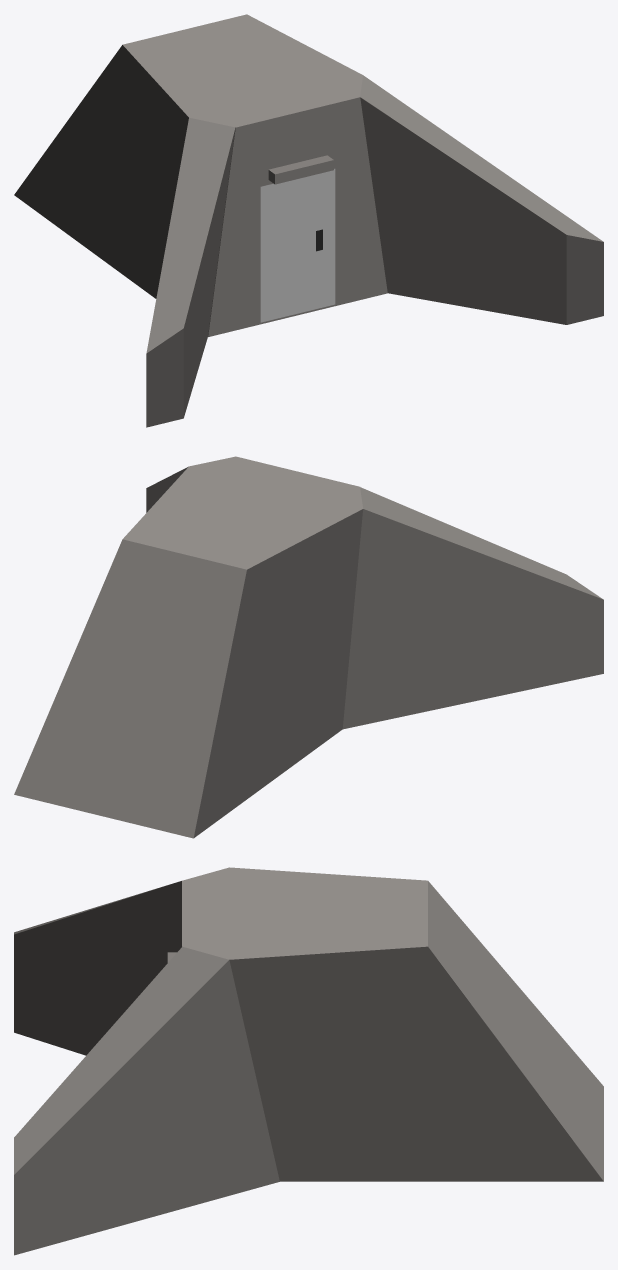
File: SA_Bld_Bunker.gltf
3 renders of one model, top to bottom at view 1: azimuth 30°, elevation 25°; view 2: azimuth 150°, elevation 25°; view 3: azimuth 270°, elevation 25°, orthographic. The views are drawn at different scales.
Parts seen in each view (by area): view 1: SA_Bld_Bunker; view 2: SA_Bld_Bunker; view 3: SA_Bld_Bunker.
Boxes of the visible parts, box(x1,y1,x2,y2) form: SA_Bld_Bunker: box(14, 14, 603, 427); SA_Bld_Bunker: box(14, 456, 603, 838); SA_Bld_Bunker: box(14, 867, 603, 1255).
Bounding box in the file's own units: 12.06 × 5.11 × 12.39.
Materials: 1 (1 with a texture image).
